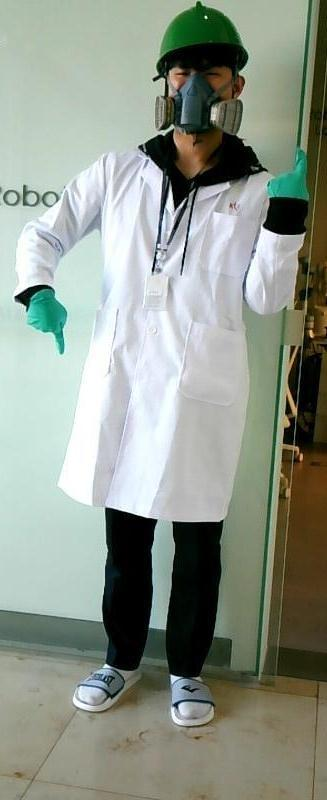lab_coat: (72, 164, 265, 508)
